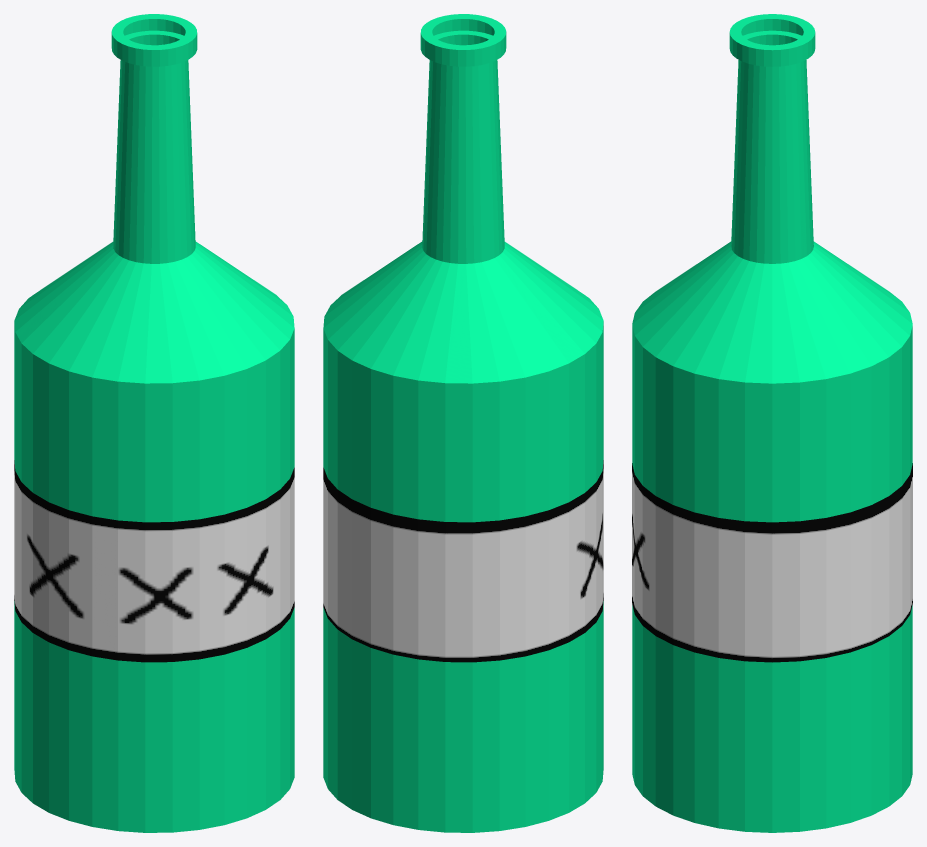
The model's file is beerbottle.glb.
The picture shows the model from 3 angles, left to right: view 1: azimuth 30°, elevation 25°; view 2: azimuth 150°, elevation 25°; view 3: azimuth 270°, elevation 25°; orthographic projection.
Visible parts, largest first — view 1: Cylinder, Cylinder.001; view 2: Cylinder, Cylinder.001; view 3: Cylinder, Cylinder.001.
Boxes of the visible parts, bbox=[...] form: Cylinder: bbox=[14, 14, 294, 832]; Cylinder.001: bbox=[14, 460, 294, 662]; Cylinder: bbox=[323, 14, 603, 832]; Cylinder.001: bbox=[323, 460, 603, 662]; Cylinder: bbox=[632, 14, 912, 832]; Cylinder.001: bbox=[632, 463, 912, 662].
Bounding box in the file's own units: 0.4002 × 1.17 × 0.4002.
Materials: 2 (1 with a texture image).
